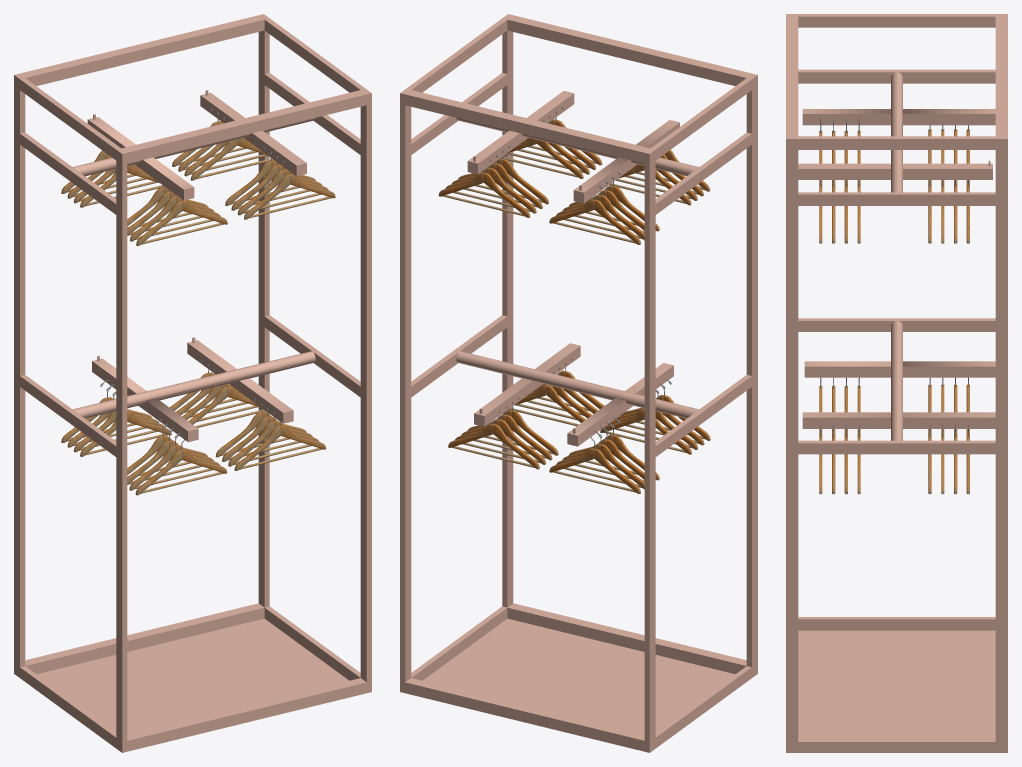
Rendered from 2kfh.glb.
3 renders of one model, left to right at view 1: azimuth 30°, elevation 25°; view 2: azimuth 150°, elevation 25°; view 3: azimuth 270°, elevation 25°, orthographic. The views are drawn at different scales.
Parts seen in each view (by area): view 1: Mesh1, hang1.009, hang1.004, hang1.010, hang1.001, hang1.008, hang1.007, hang1.005, Mesh2, hang1.006; view 2: Mesh1, hang1.008, hang1.005, hang1.007, hang1.006, hang1.009, hang1.004, hang1.010, Mesh2, hang1.001; view 3: Mesh1, Mesh2, hang1.008, hang1.009, hang1.004, hang1.005, hang1.007, hang1.010, hang1.001, hang1.006.
Part boxes in pixels (x1=…): Mesh1: x1=14, y1=14, x2=371, y2=752; hang1.009: x1=215, y1=398, x2=326, y2=470; hang1.004: x1=225, y1=146, x2=335, y2=219; hang1.010: x1=127, y1=419, x2=227, y2=495; hang1.001: x1=127, y1=185, x2=227, y2=245; hang1.008: x1=170, y1=359, x2=265, y2=427; hang1.007: x1=61, y1=380, x2=171, y2=456; hang1.005: x1=172, y1=108, x2=273, y2=180; Mesh2: x1=200, y1=90, x2=306, y2=176; hang1.006: x1=61, y1=134, x2=164, y2=207; Mesh1: x1=400, y1=14, x2=757, y2=752; hang1.008: x1=448, y1=396, x2=558, y2=469; hang1.005: x1=438, y1=145, x2=548, y2=217; hang1.007: x1=549, y1=417, x2=659, y2=493; hang1.006: x1=549, y1=171, x2=659, y2=244; hang1.009: x1=508, y1=358, x2=604, y2=426; hang1.004: x1=500, y1=106, x2=602, y2=178; hang1.010: x1=600, y1=378, x2=710, y2=454; Mesh2: x1=467, y1=91, x2=574, y2=174; hang1.001: x1=609, y1=149, x2=710, y2=205; Mesh1: x1=786, y1=14, x2=1007, y2=752; Mesh2: x1=798, y1=160, x2=992, y2=179; hang1.008: x1=928, y1=424, x2=969, y2=494; hang1.009: x1=819, y1=424, x2=860, y2=494; hang1.004: x1=819, y1=180, x2=860, y2=243; hang1.005: x1=928, y1=180, x2=969, y2=243; hang1.007: x1=928, y1=377, x2=969, y2=435; hang1.010: x1=819, y1=377, x2=860, y2=435; hang1.001: x1=819, y1=117, x2=860, y2=184; hang1.006: x1=928, y1=125, x2=969, y2=184.
Bounding box in the file's own units: 24 × 55 × 18.
3 materials, 2 textured.
